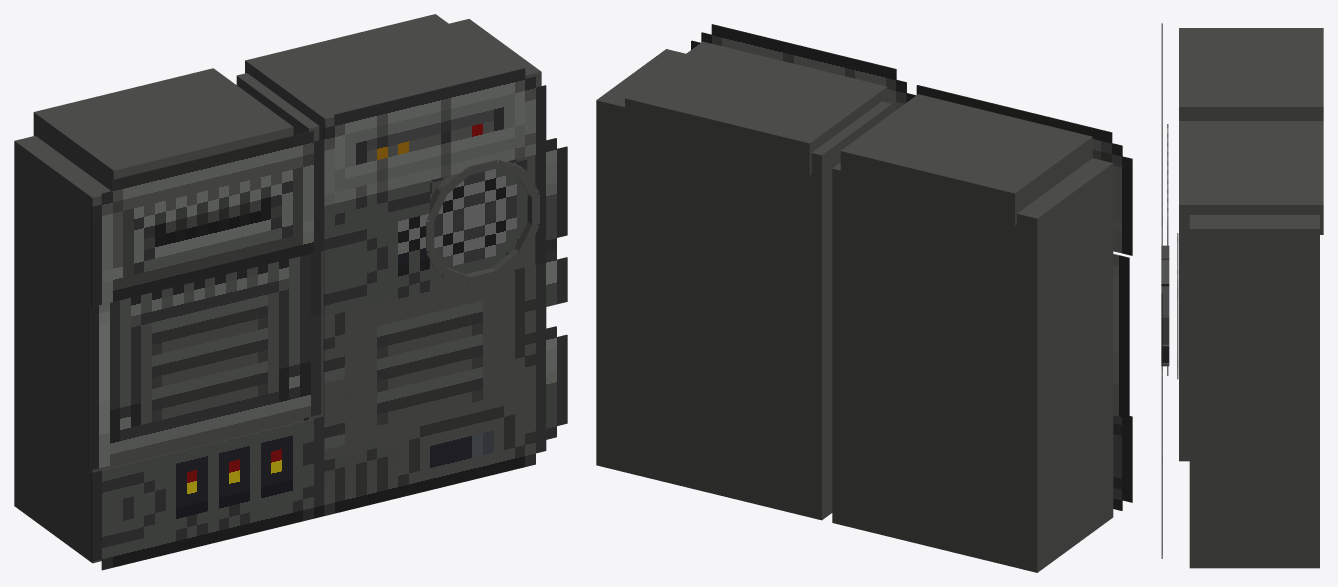
The model's file is CMU3DRMCMachinePropBig5.glb.
The picture shows the model from 3 angles, left to right: view 1: azimuth 30°, elevation 25°; view 2: azimuth 150°, elevation 25°; view 3: azimuth 270°, elevation 25°; orthographic projection. The views are drawn at different scales.
Parts seen in each view (by area): view 1: right service face and fan surround, left lower grille, left vent housing, left top intake, left lower controls, left stepped cap, right stepped cap, recessed circular fan artwork, right fan and grille housing; view 2: left vent housing, right fan and grille housing, right stepped cap, left stepped cap, left top intake, right service face and fan surround, left lower grille, left lower controls; view 3: right fan and grille housing, right stepped cap, left stepped cap, left vent housing, inferred recessed fan lip (×3), right service face and fan surround, recessed circular fan artwork, left lower grille, left top intake.
Boxes of the visible parts, bbox=[...] form: right service face and fan surround: bbox=[323, 68, 567, 515]; left lower grille: bbox=[88, 251, 321, 470]; left vent housing: bbox=[14, 135, 303, 563]; left top intake: bbox=[91, 131, 324, 307]; left lower controls: bbox=[91, 416, 324, 570]; left stepped cap: bbox=[33, 68, 293, 190]; right stepped cap: bbox=[245, 14, 512, 140]; recessed circular fan artwork: bbox=[430, 157, 527, 282]; right fan and grille housing: bbox=[236, 19, 541, 420]; left vent housing: bbox=[832, 158, 1113, 572]; right fan and grille housing: bbox=[596, 49, 891, 520]; right stepped cap: bbox=[625, 41, 887, 175]; left stepped cap: bbox=[840, 94, 1092, 225]; left top intake: bbox=[906, 85, 1132, 255]; right service face and fan surround: bbox=[691, 24, 906, 112]; left lower grille: bbox=[1113, 254, 1129, 418]; left lower controls: bbox=[1113, 415, 1132, 510]; right fan and grille housing: bbox=[1189, 215, 1319, 568]; right stepped cap: bbox=[1179, 121, 1323, 234]; left stepped cap: bbox=[1179, 28, 1323, 120]; left vent housing: bbox=[1179, 235, 1189, 461]; inferred recessed fan lip (×3): bbox=[1161, 260, 1169, 344]; right service face and fan surround: bbox=[1161, 111, 1162, 558]; recessed circular fan artwork: bbox=[1177, 233, 1178, 379]; left lower grille: bbox=[1167, 124, 1168, 375]; left top intake: bbox=[1161, 23, 1162, 225].
Size of what is drawn, in the model's own units: 1.41 by 1.12 by 0.46.
6 materials, 5 textured.
